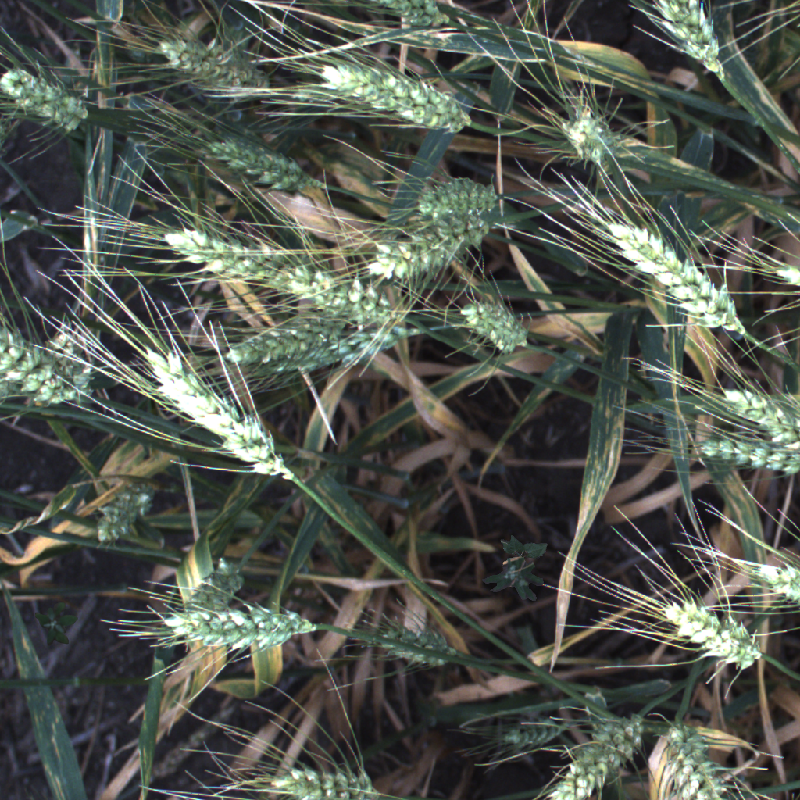spikelet: (139, 336, 287, 473), (604, 213, 745, 335), (315, 55, 468, 135), (152, 592, 326, 656), (161, 218, 300, 296), (363, 212, 514, 283), (143, 28, 280, 105), (276, 320, 421, 392), (539, 706, 650, 800), (2, 323, 92, 419), (659, 592, 766, 671), (270, 260, 396, 326), (200, 128, 322, 195), (646, 1, 733, 83), (140, 709, 230, 788), (215, 317, 357, 366), (656, 717, 739, 800), (544, 94, 630, 171), (402, 167, 515, 225), (714, 379, 800, 455), (1, 60, 89, 134), (698, 424, 799, 478), (257, 760, 389, 800), (457, 293, 530, 357), (367, 621, 460, 671), (351, 1, 461, 40), (187, 552, 251, 614), (96, 478, 157, 541), (746, 550, 800, 613), (42, 323, 92, 387), (498, 721, 580, 754)
weed: (479, 548, 551, 619), (35, 602, 78, 646), (498, 533, 549, 561)
